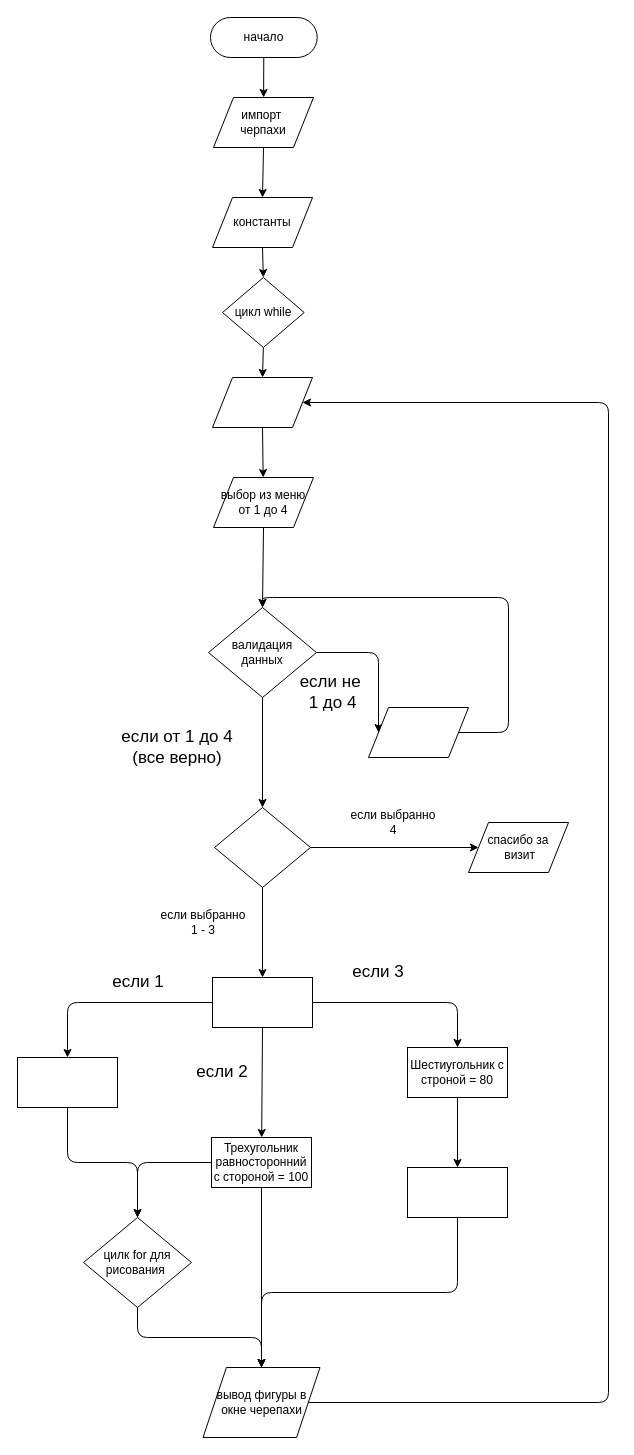
Image size: 634x1455. Some labels were removed from this diagram. Here are the shapes that lost their labels. From the top down, the centre of each, then its label:
point 262,402: меню
point 418,732: "Ошибка: выберите 1–4"
point 262,847: if-elif-else на выбор из меню
point 262,1002: penup goto pendown
point 67,1082: Квадрат с стороной = 100
point 457,1192: circle(steps = 8)
